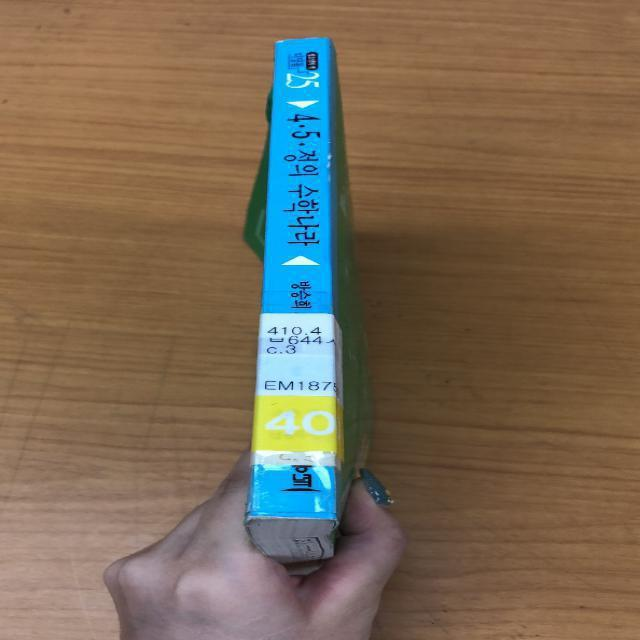Wornout: (239, 511, 343, 533), (271, 34, 333, 46), (320, 135, 339, 171)
